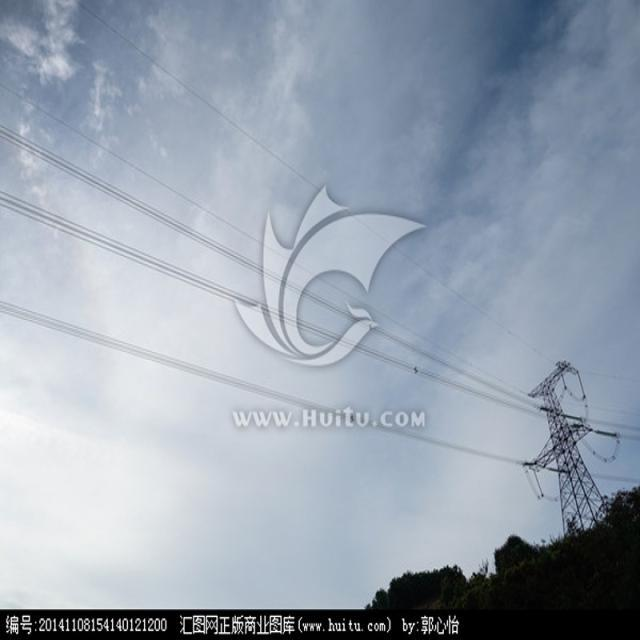non-critical vegetation: (507, 344, 605, 521)
